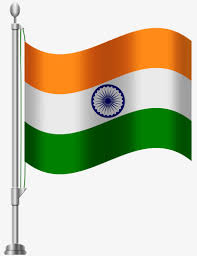flag: (19, 29, 197, 181)
